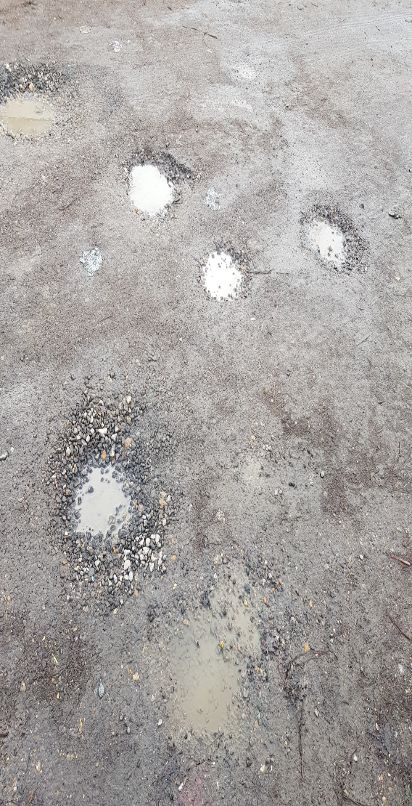pothole: (47, 379, 172, 599), (0, 61, 78, 148), (292, 207, 367, 276), (119, 154, 180, 223), (194, 240, 252, 303)
